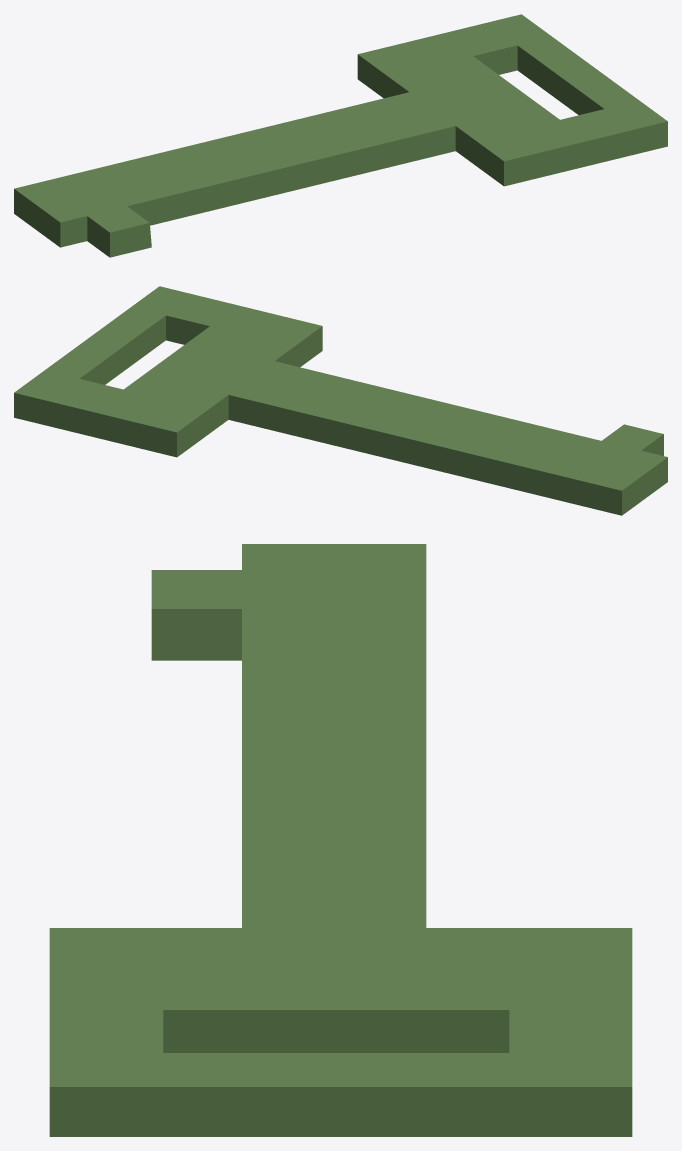
Rendered from Key_Green.fbx.
The picture shows the model from 3 angles, top to bottom: view 1: azimuth 30°, elevation 25°; view 2: azimuth 150°, elevation 25°; view 3: azimuth 270°, elevation 25°; orthographic projection. The views are drawn at different scales.
Parts seen in each view (by area): view 1: Key_Green; view 2: Key_Green; view 3: Key_Green.
Boxes of the visible parts, x1,y1,x2,y2 form: Key_Green: [14, 14, 667, 257]; Key_Green: [14, 286, 667, 515]; Key_Green: [49, 544, 632, 1136].
Bounding box in the file's own units: 0.1278 × 0.00548 × 0.0579.
